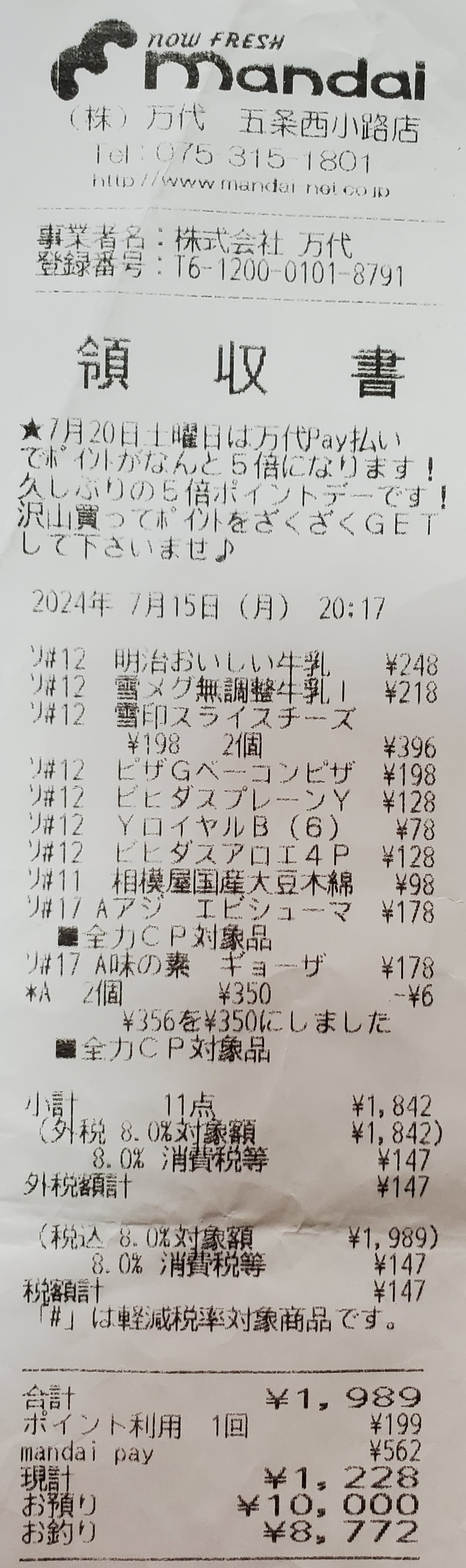Date: (28, 570, 236, 629)
Shopname: (141, 10, 437, 111)
Telnum: (141, 136, 379, 179)
Totalpay: (17, 1375, 435, 1420)
